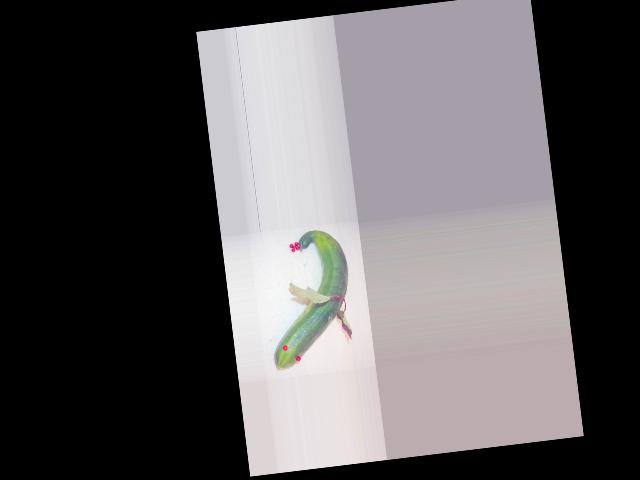cucumber: (259, 226, 358, 369)
